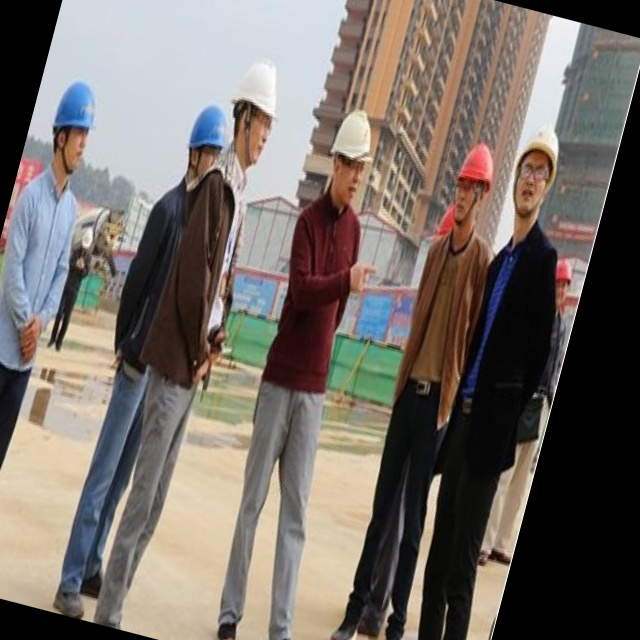Con_Casco: (217, 47, 291, 172), (320, 100, 384, 202)
Sin_Chaleco: (257, 188, 375, 396)
